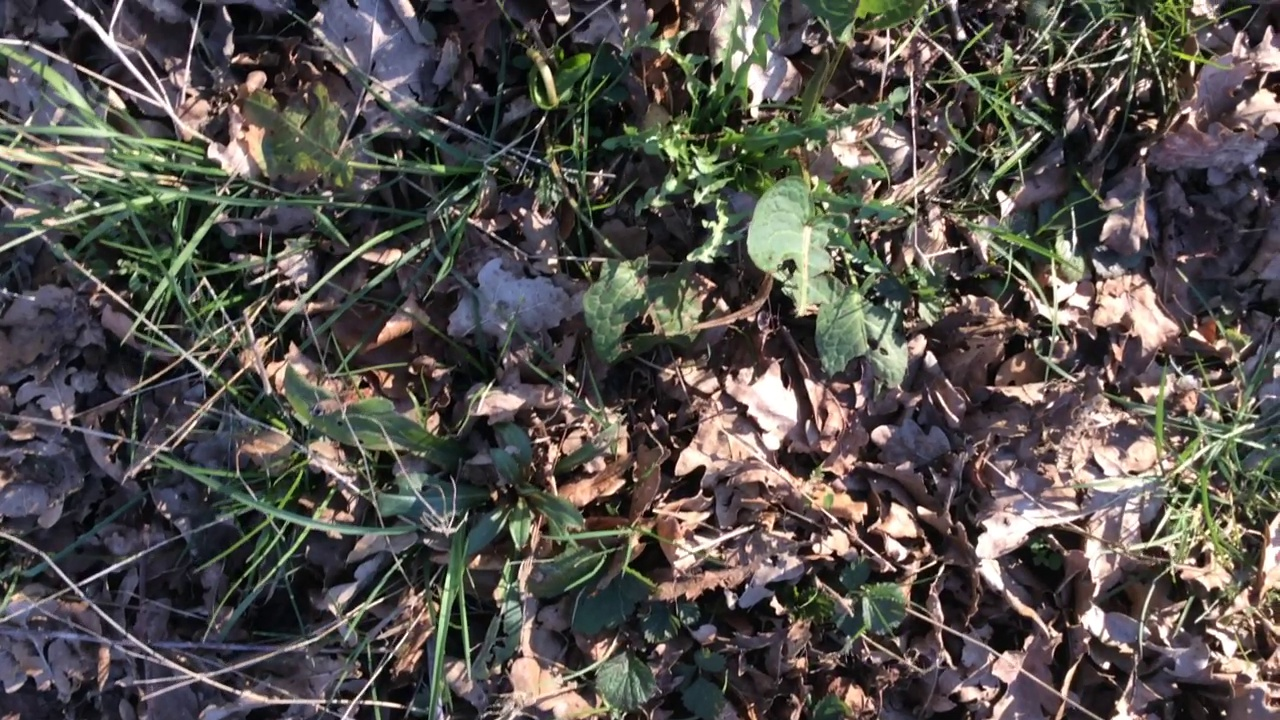rumex: (591, 128, 914, 391)
